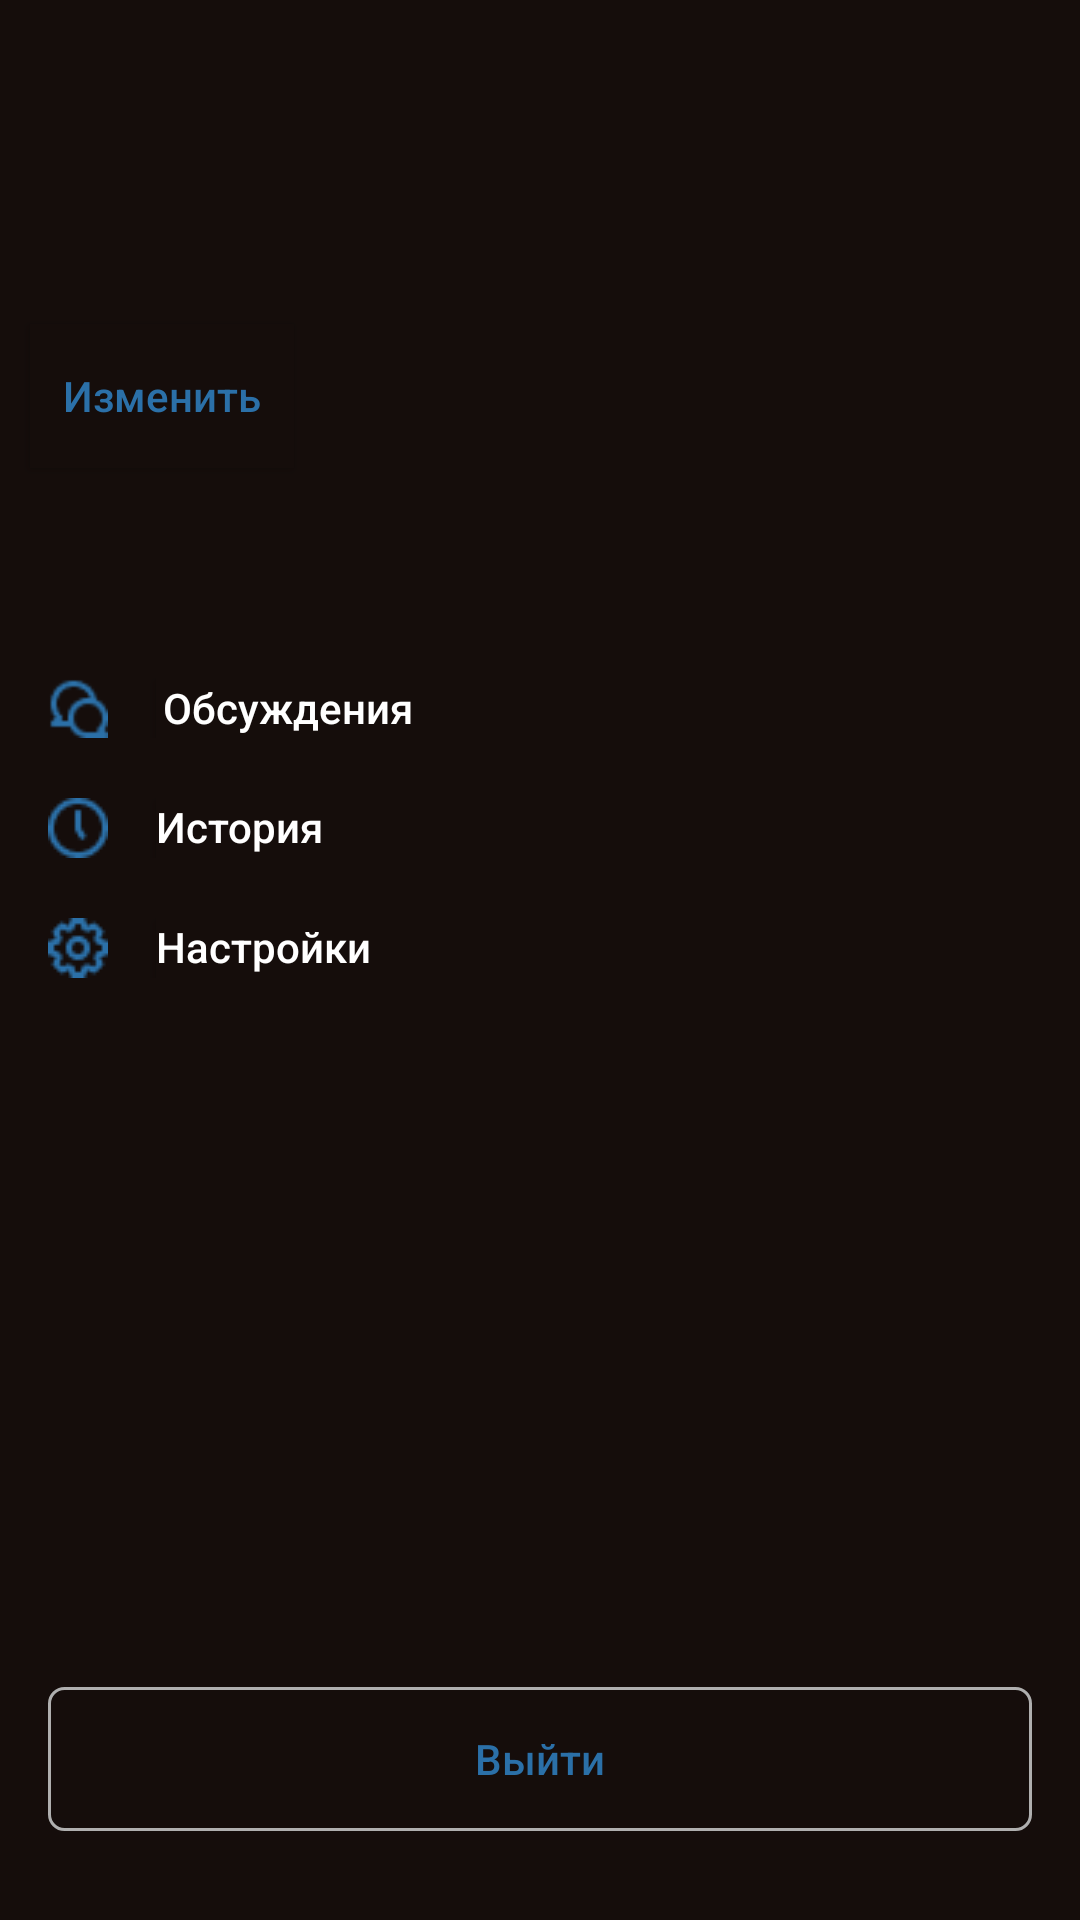

Icon click points for this 1080 x 1920 phone screenshot, format (x,y):
chats: (79,709)
history: (78,828)
settings: (78,948)
